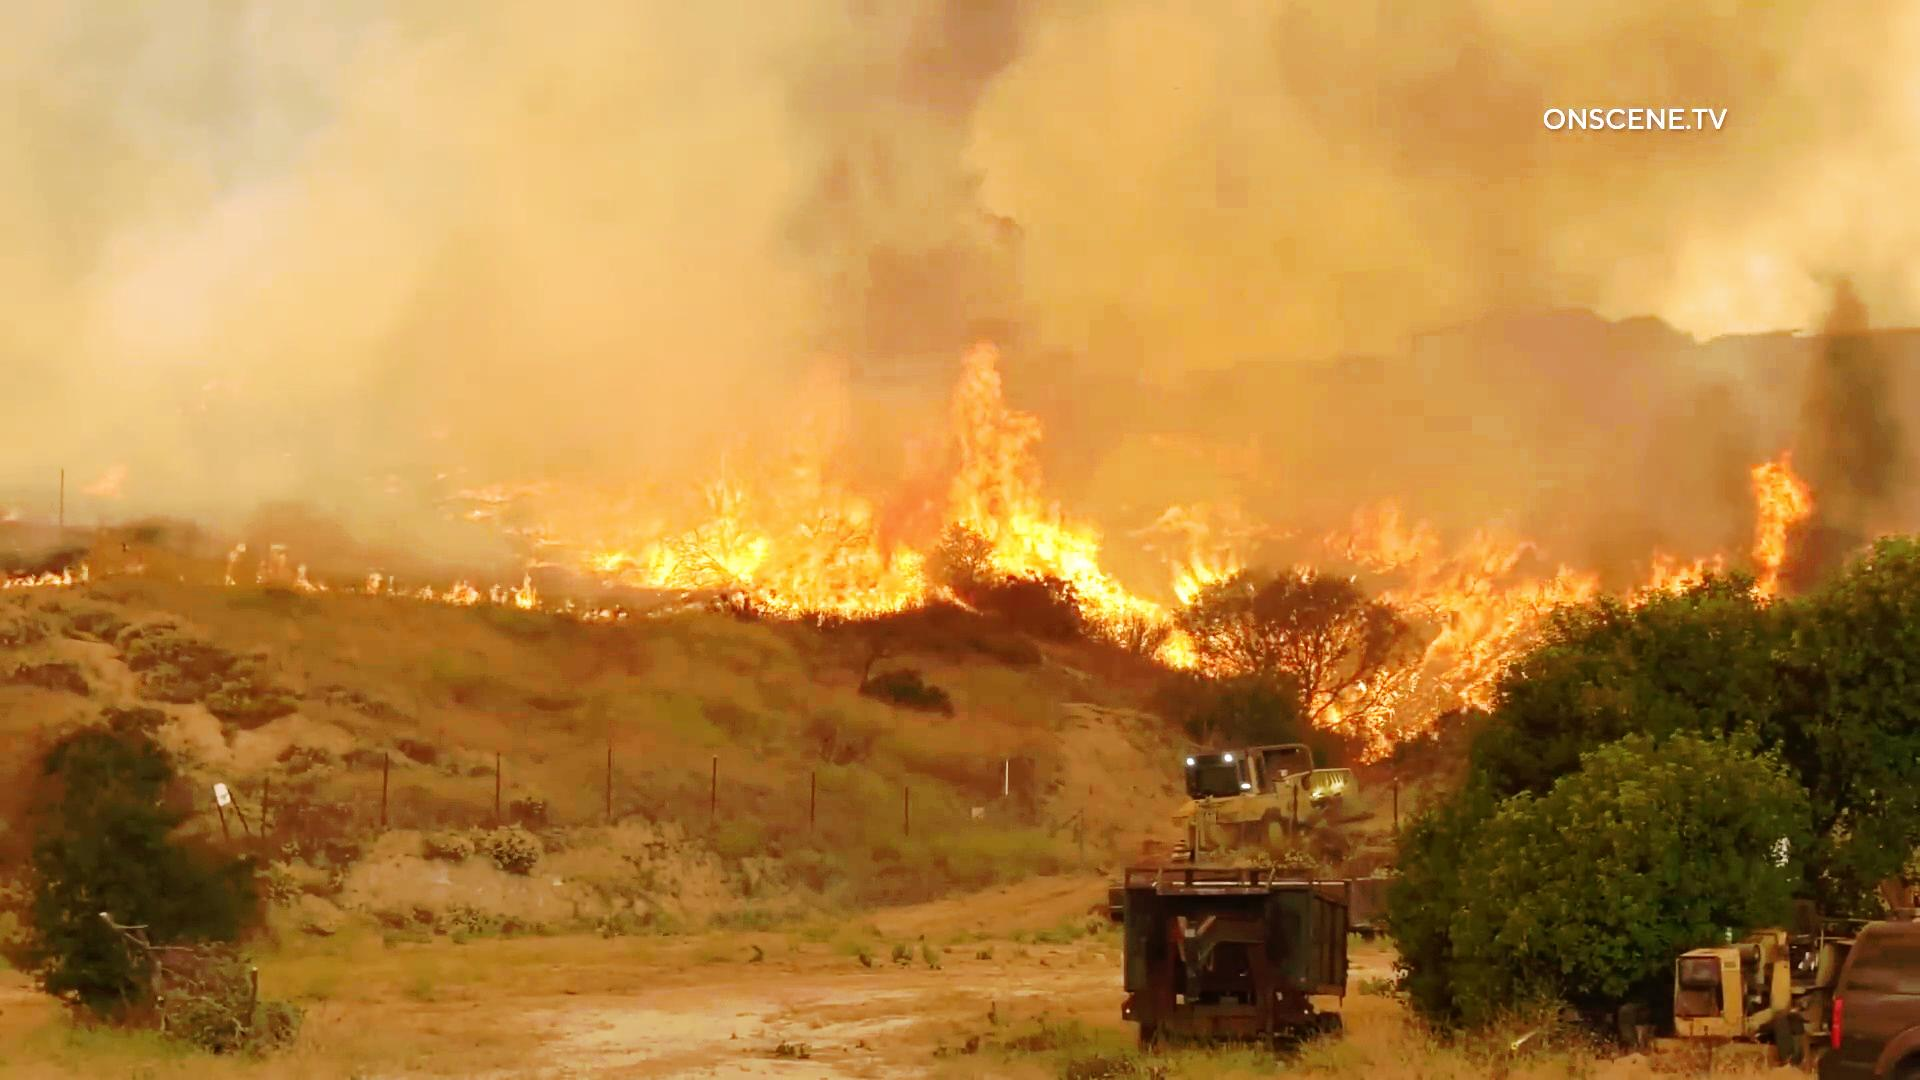fire: (551, 359, 919, 618), (1321, 533, 1607, 742), (1033, 491, 1261, 669), (920, 380, 1130, 567), (1636, 469, 1861, 615), (425, 543, 563, 621)
smoke: (1001, 199, 1404, 359), (764, 11, 938, 367), (302, 123, 566, 265)
